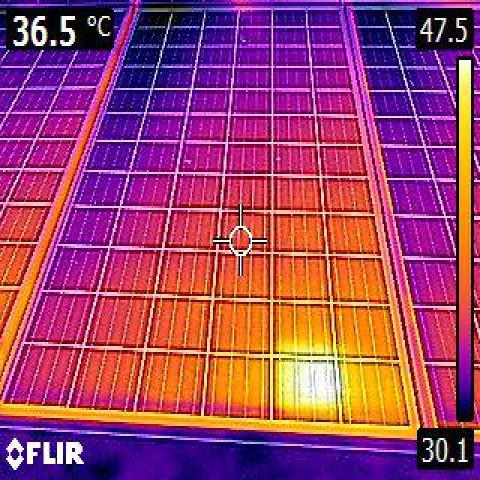fault: (279, 361, 335, 418)
